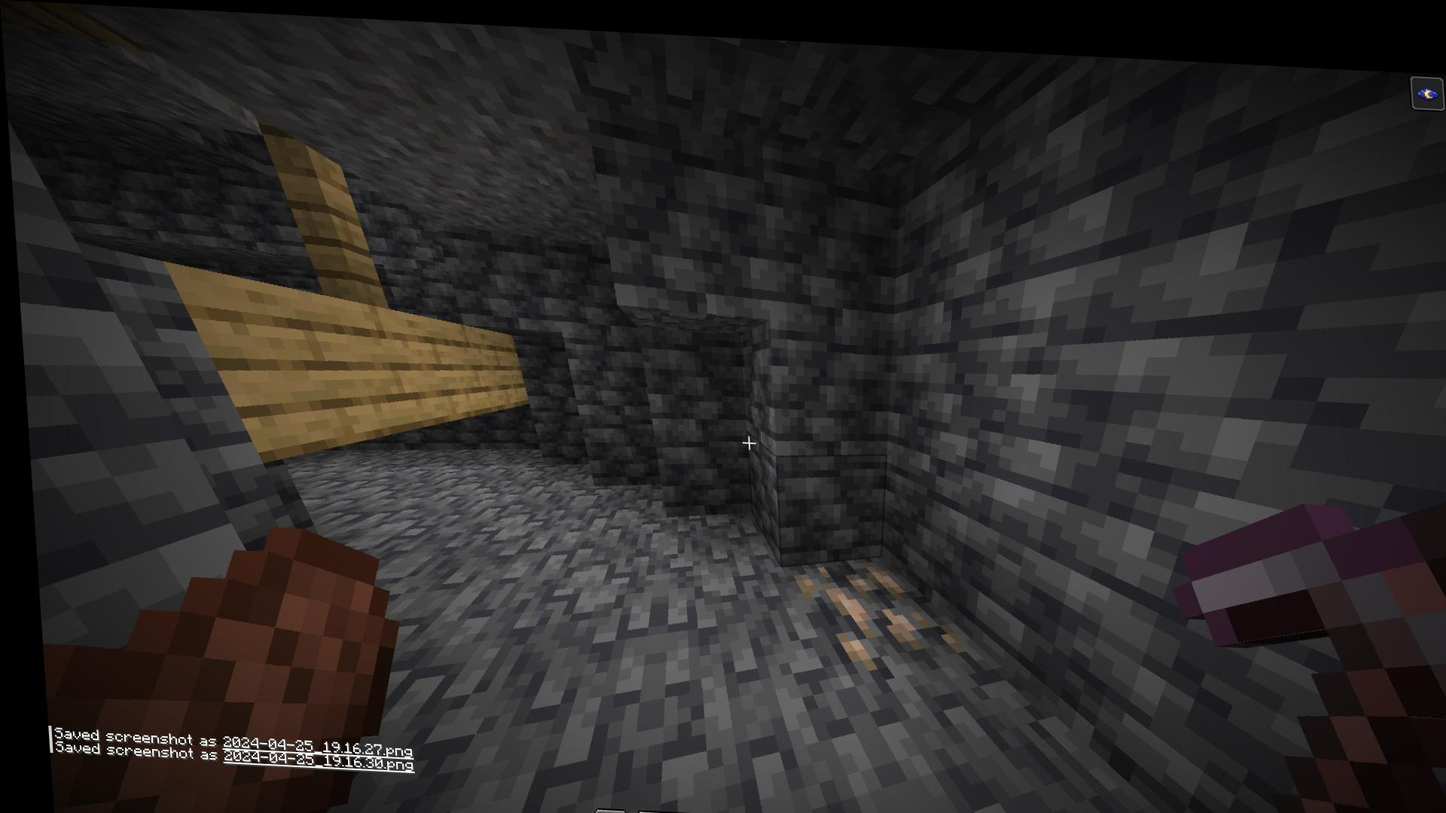iron ore: (781, 543, 960, 675)
